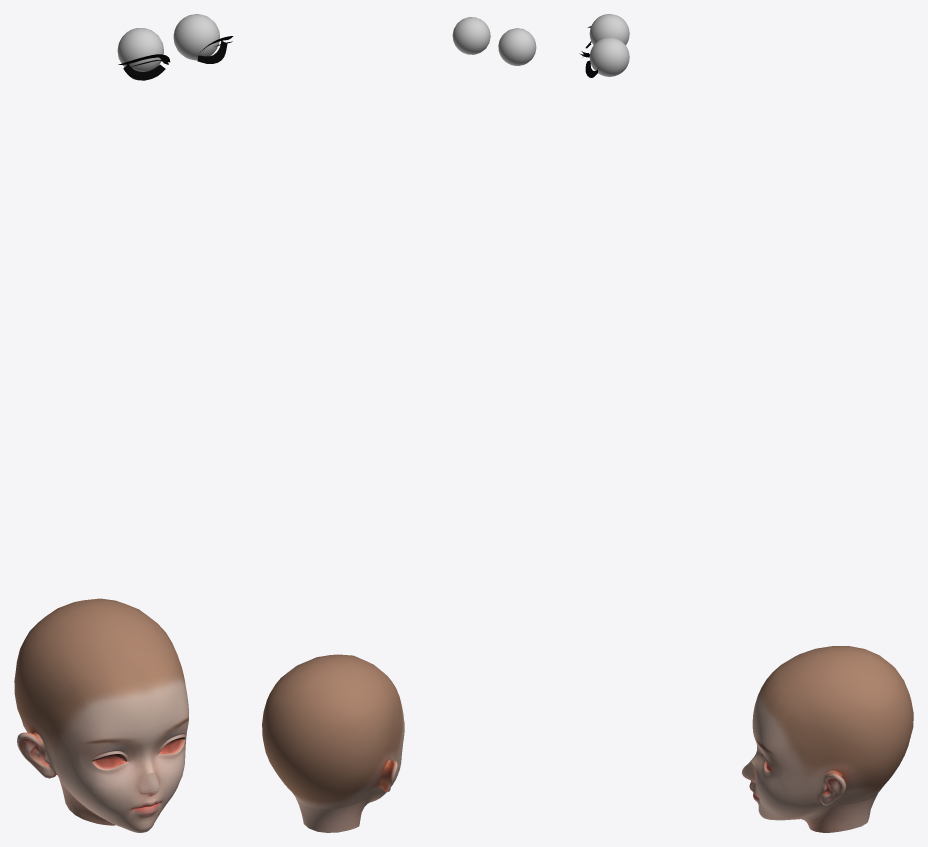
The model's file is Normal.FBX.
The picture shows the model from 3 angles, left to right: view 1: azimuth 30°, elevation 25°; view 2: azimuth 150°, elevation 25°; view 3: azimuth 270°, elevation 25°; orthographic projection. The views are drawn at different scales.
Visible parts, largest first — view 1: zhlian0901, zhyanqiu0901, zhjiemao0901; view 2: zhlian0901, zhyanqiu0901; view 3: zhlian0901, zhyanqiu0901.
Boxes of the visible parts, left/top/right/bottom form: zhlian0901: left=14, top=598, right=188, bottom=832; zhyanqiu0901: left=117, top=14, right=219, bottom=71; zhjiemao0901: left=118, top=36, right=233, bottom=80; zhlian0901: left=262, top=654, right=404, bottom=832; zhyanqiu0901: left=452, top=17, right=536, bottom=65; zhlian0901: left=742, top=646, right=913, bottom=832; zhyanqiu0901: left=589, top=14, right=629, bottom=76.
Bounding box in the file's own units: 8.77 × 37.23 × 14.74.
